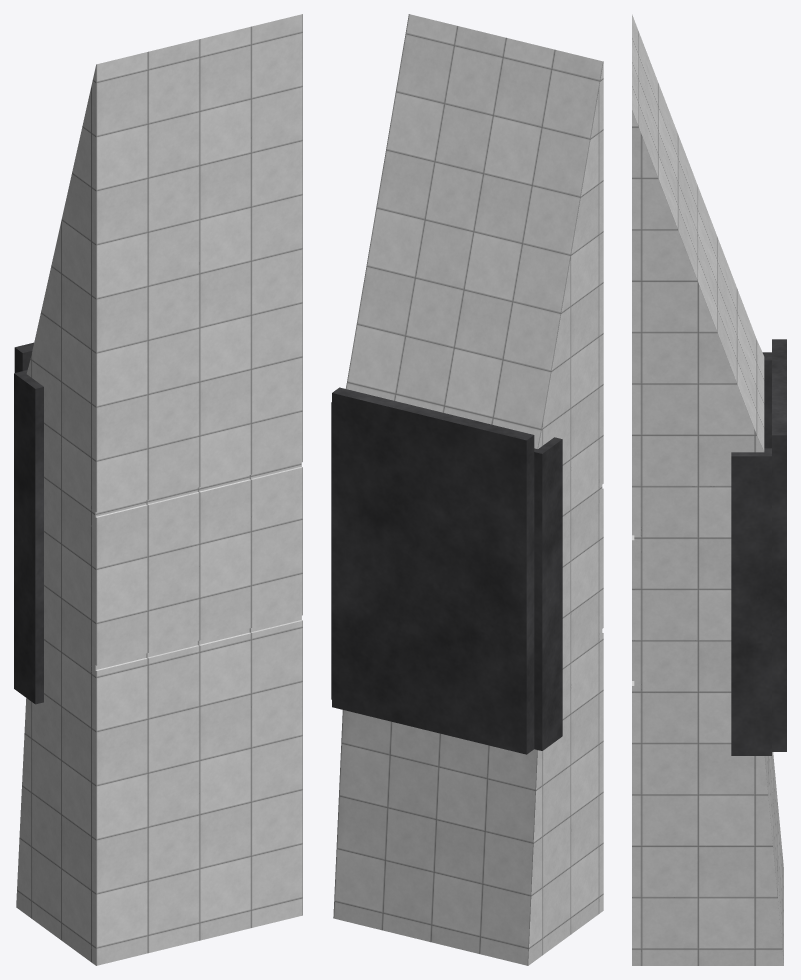
Rendered from ax_aero_31_jesc_scramjet_s.glb.
3 renders of one model, left to right at view 1: azimuth 30°, elevation 25°; view 2: azimuth 150°, elevation 25°; view 3: azimuth 270°, elevation 25°, orthographic. The views are drawn at different scales.
Visible parts, largest first — view 1: module, sidewalls; view 2: module, cowl, sidewalls; view 3: module, sidewalls, cowl.
Boxes of the visible parts, bbox=[...] form: module: bbox=[16, 14, 302, 965]; sidewalls: bbox=[14, 370, 43, 704]; module: bbox=[333, 14, 603, 965]; cowl: bbox=[332, 387, 534, 754]; sidewalls: bbox=[331, 402, 562, 750]; module: bbox=[632, 14, 783, 965]; sidewalls: bbox=[731, 352, 771, 755]; cowl: bbox=[772, 339, 786, 751].
Size of the model in its own units: 0.65 by 2.5 by 0.41.
Materials: 3 (2 with a texture image).
